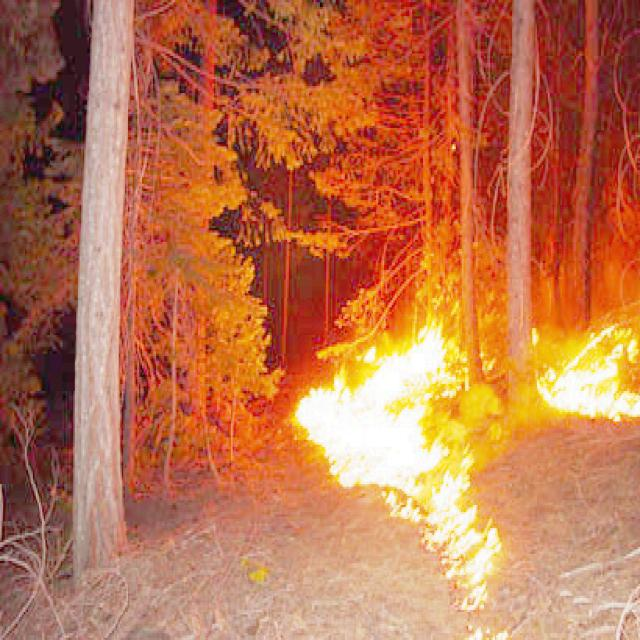api: (297, 327, 454, 489), (424, 483, 504, 624), (542, 333, 640, 423), (392, 479, 425, 528), (462, 622, 512, 640), (452, 457, 473, 487)
